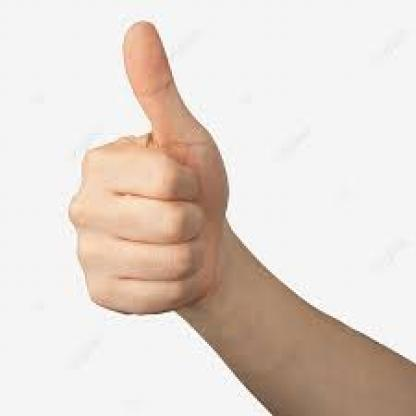thumb_up: (63, 17, 242, 321)
